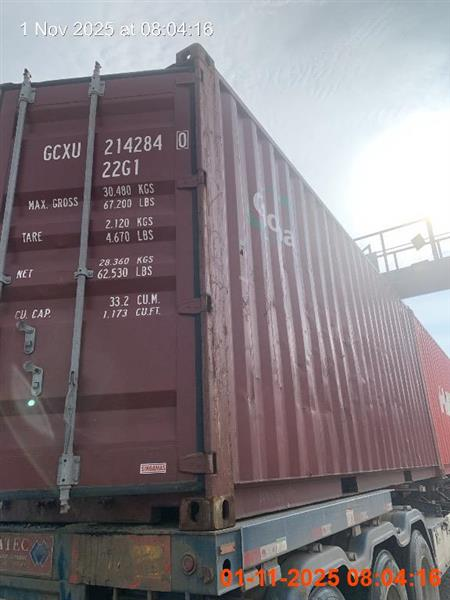broken: (1, 44, 448, 598)
